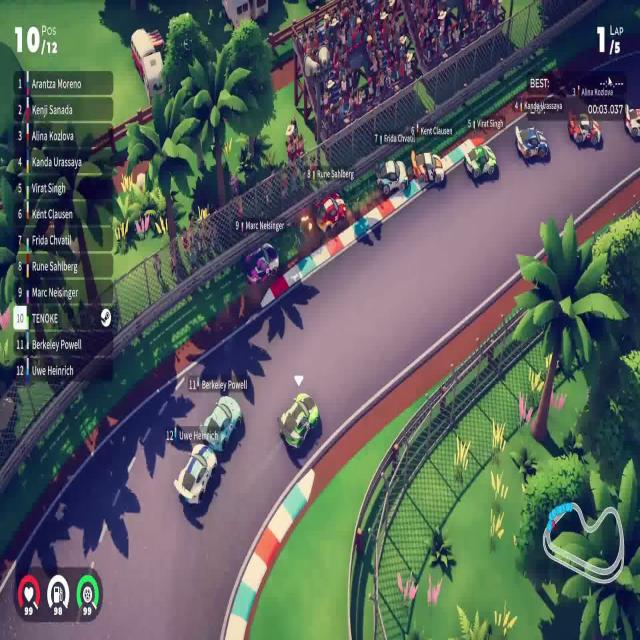car: (174, 442, 218, 506), (278, 391, 320, 452), (200, 394, 242, 453), (243, 241, 280, 286), (408, 148, 448, 189), (315, 190, 347, 234), (374, 158, 408, 199), (514, 123, 549, 161), (463, 142, 497, 180), (567, 111, 601, 147)
